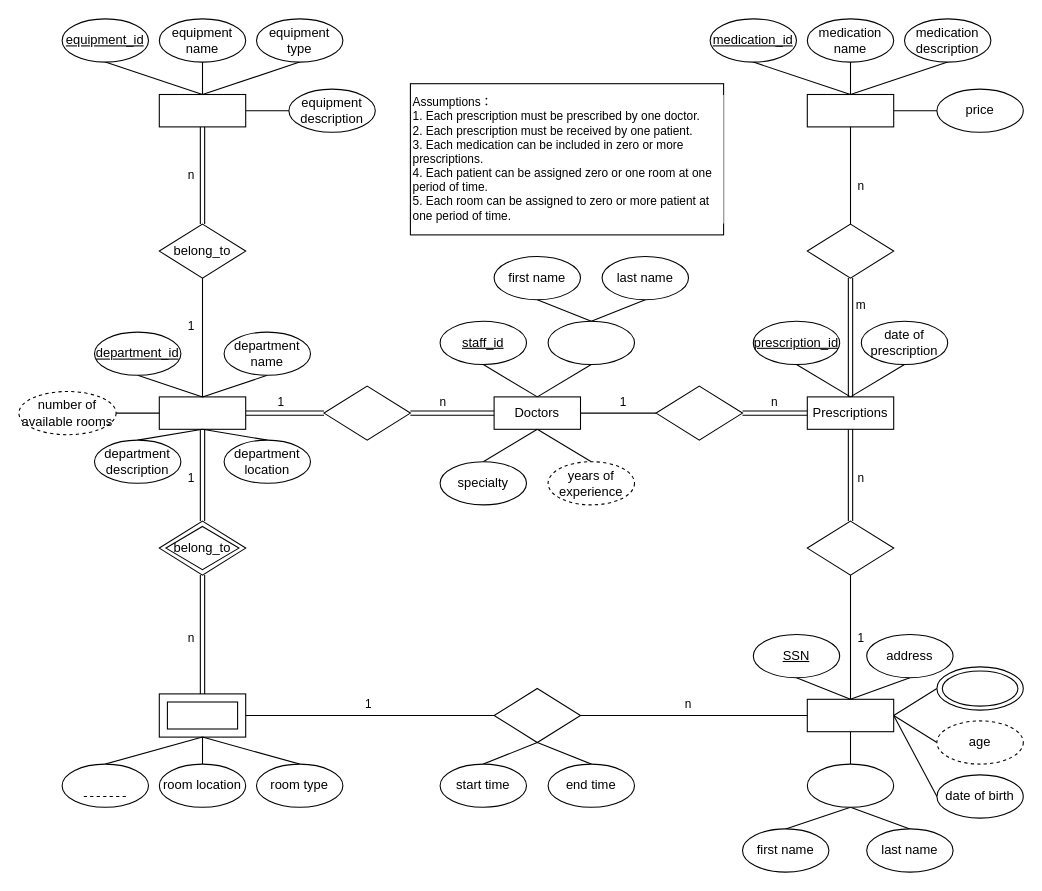
The diagram is 1042 pixels wide and 891 high, and some of its shapes have lost their labels. Here are the shapes that lost their labels. From the top down, the box of each, then its label:
(158, 93, 246, 127): Equipments
(806, 93, 894, 127): Medications
(806, 223, 894, 278): include
(547, 320, 634, 364): doctor name
(158, 396, 246, 429): Departments
(323, 385, 410, 440): work_in
(655, 385, 742, 440): prescribe
(806, 520, 894, 575): receive
(941, 670, 1018, 706): phone number
(166, 701, 238, 729): Rooms
(493, 687, 580, 742): assign
(806, 698, 894, 732): Patients
(61, 763, 148, 807): room_id
(806, 763, 894, 807): patient name
